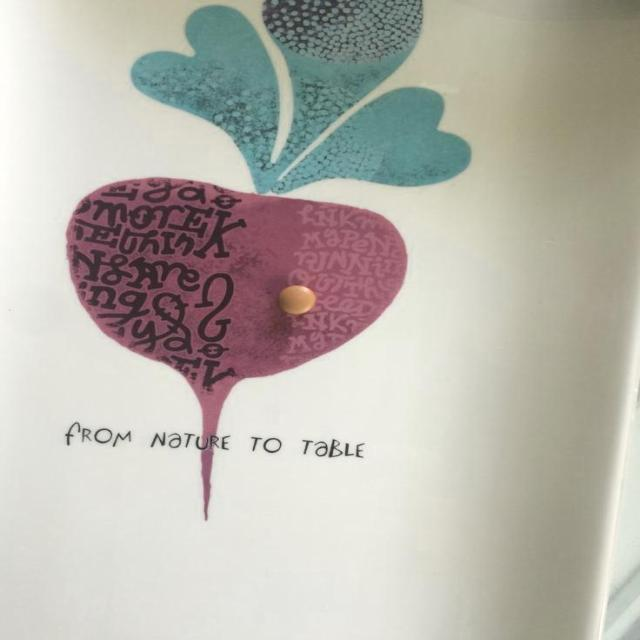pill: (277, 280, 319, 320)
